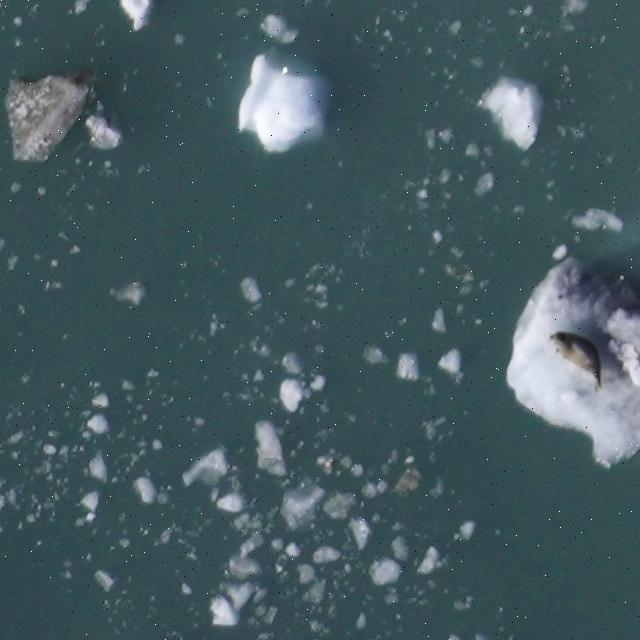seal: (544, 325, 606, 395)
